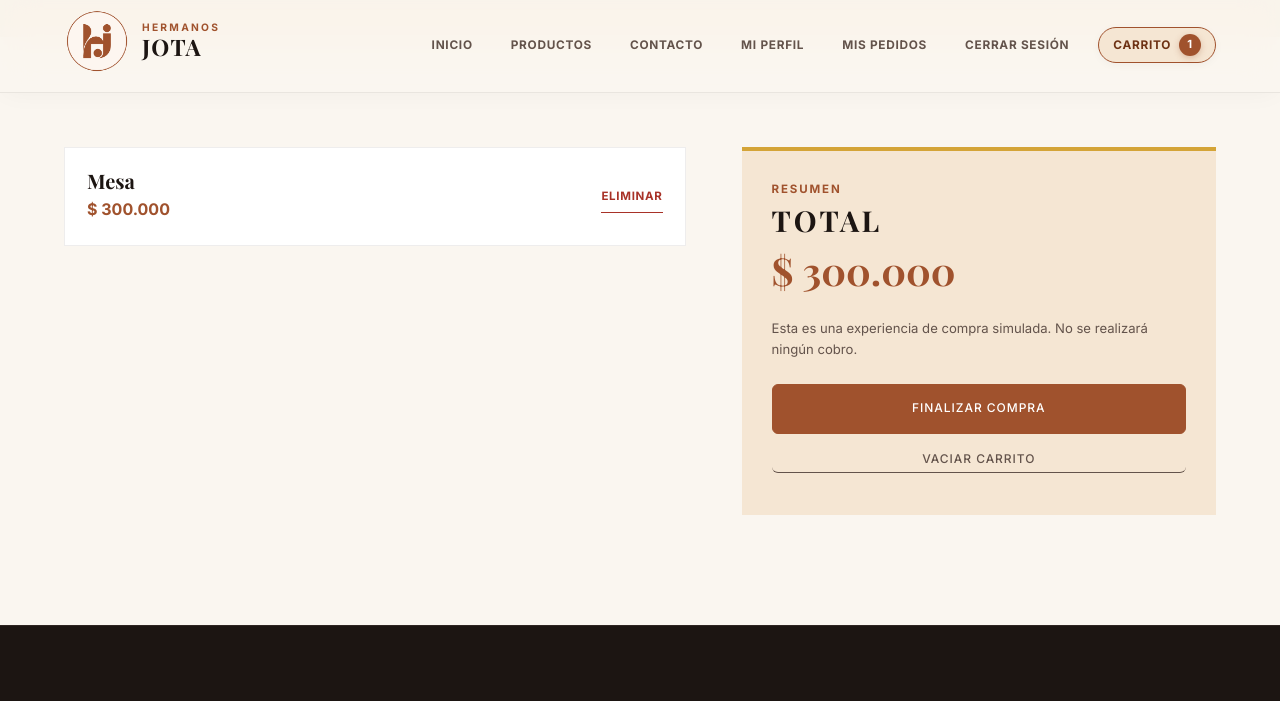
Test case: authentication flow › creates an authenticated order and clears the cart only after success
(page scrolled)
Step 1. Click the button "Finalizar compra" → (979, 409), box [772, 384, 1186, 434]
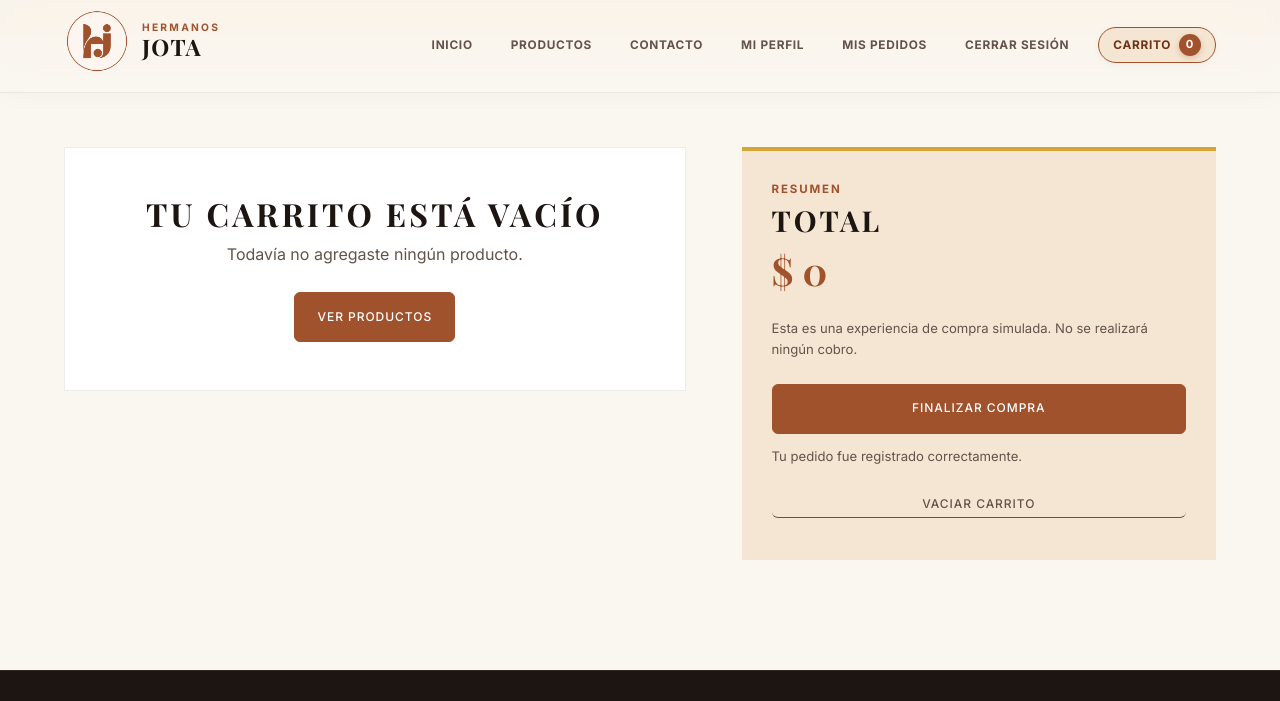
Now the message reads "Tu pedido fue registrado correctamente.", box [772, 448, 1022, 464]
Now the heading "Tu carrito está vacío" is shown, box [146, 192, 604, 235]
